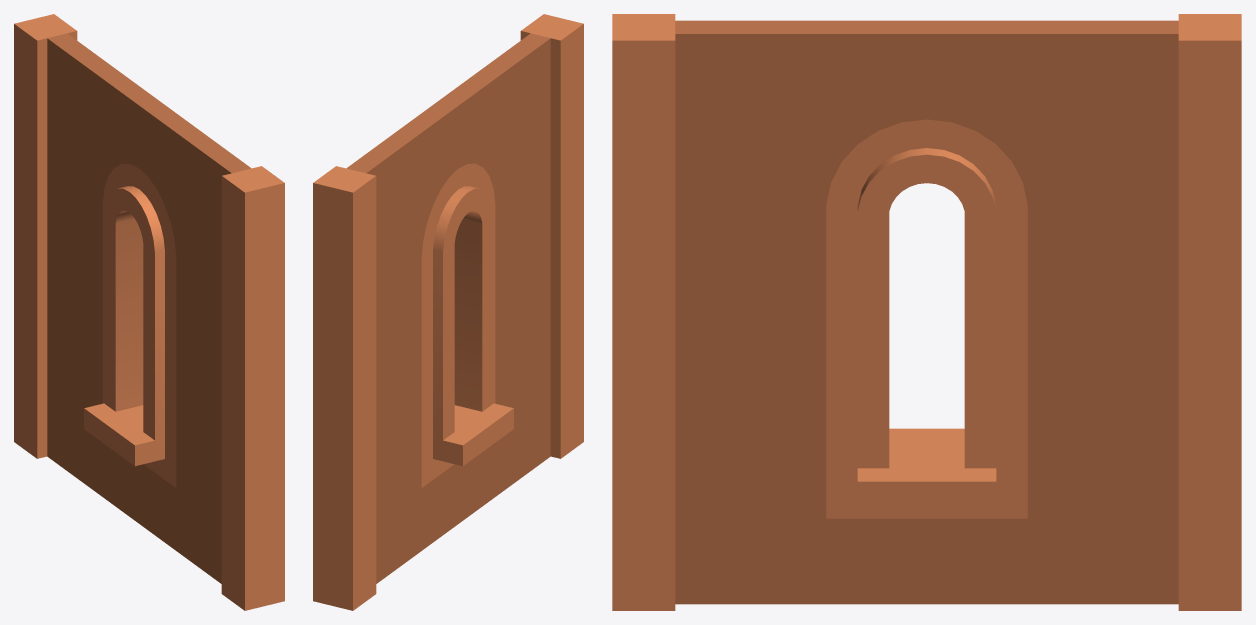
File: wallWoodWindowRound.fbx
3 views of the same model, side by side, from view 1: azimuth 30°, elevation 25°; view 2: azimuth 150°, elevation 25°; view 3: azimuth 270°, elevation 25° (orthographic). The views are drawn at different scales.
Visible parts, largest first — view 1: wallWoodWindowRound; view 2: wallWoodWindowRound; view 3: wallWoodWindowRound.
Part boxes in pixels (bbox=[...]): wallWoodWindowRound: bbox=[14, 14, 284, 610]; wallWoodWindowRound: bbox=[313, 14, 583, 610]; wallWoodWindowRound: bbox=[612, 14, 1241, 610].
Size of the model in its own units: 2 by 10 by 10.
